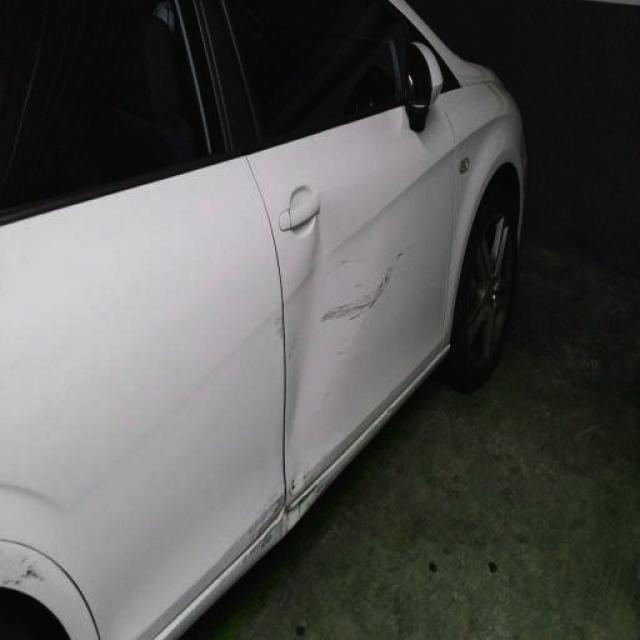car damage: (290, 222, 369, 439), (247, 465, 325, 561), (324, 246, 411, 321), (0, 543, 56, 596)
